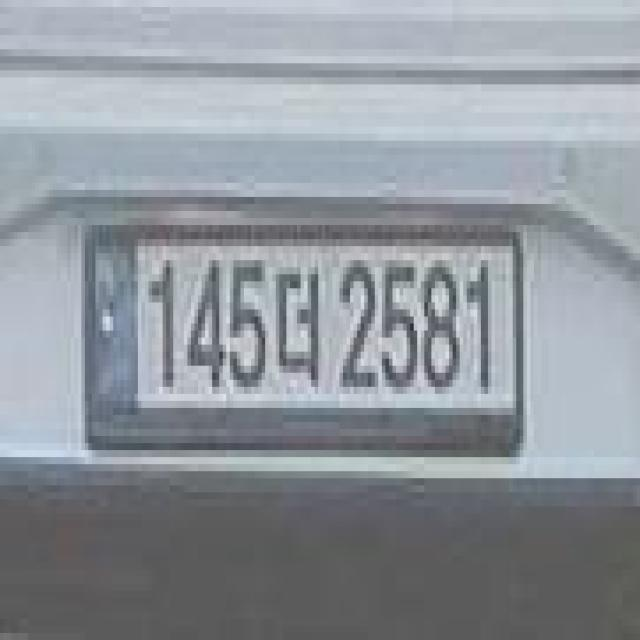illegal_plate: (76, 213, 528, 456)
